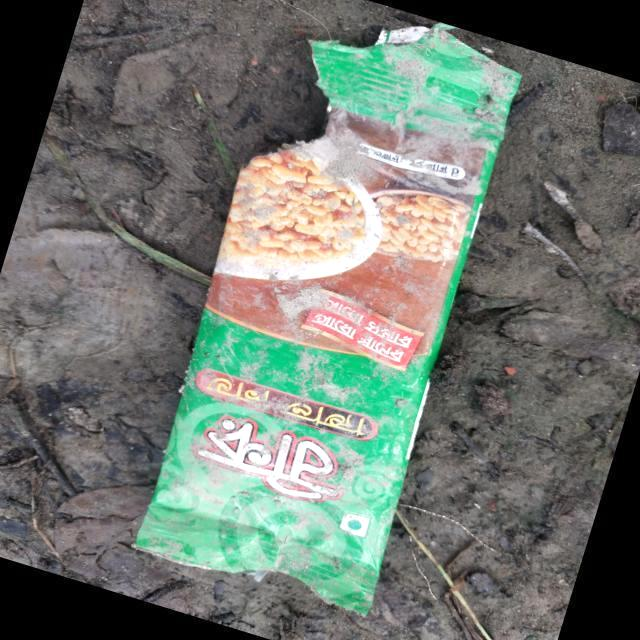packet: (120, 0, 531, 620)
